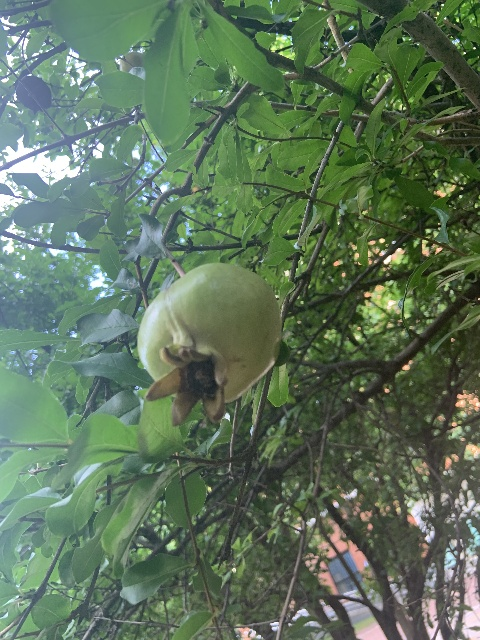mid-growth: (137, 262, 284, 426)
